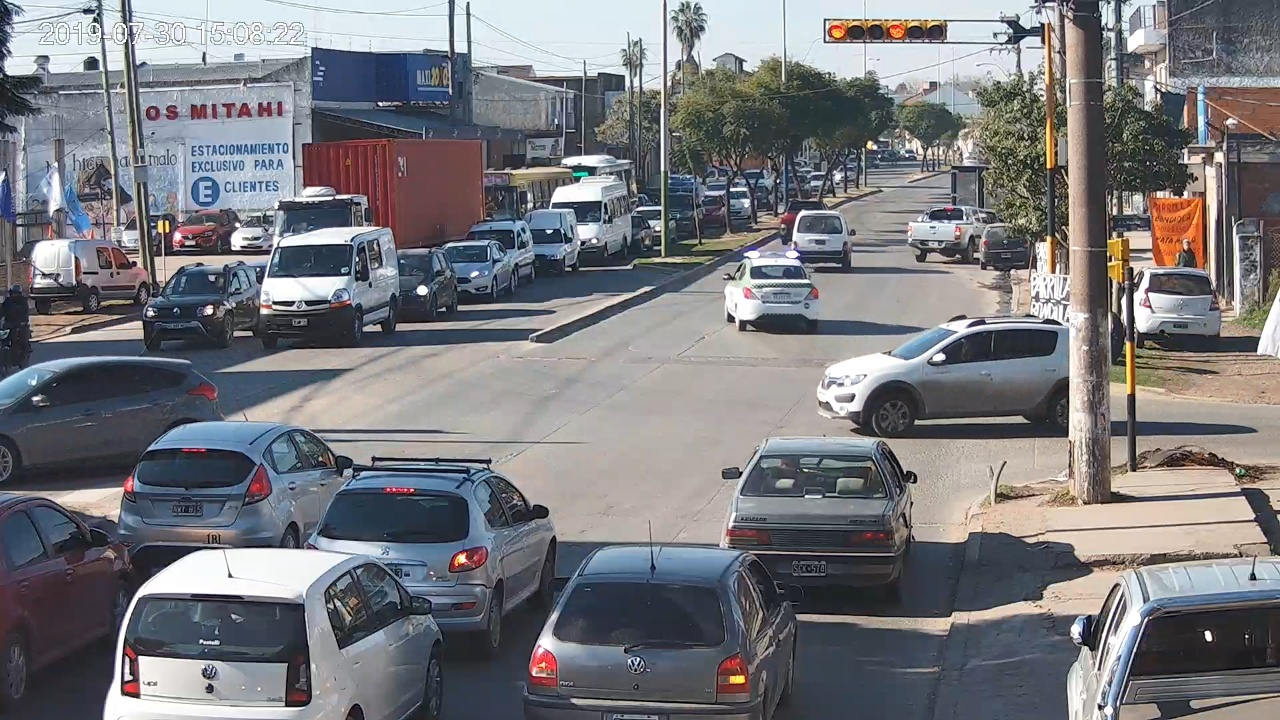car: (104, 545, 444, 720), (524, 545, 803, 720)
police car: (723, 250, 820, 332)
traffic light: (826, 17, 948, 42)
